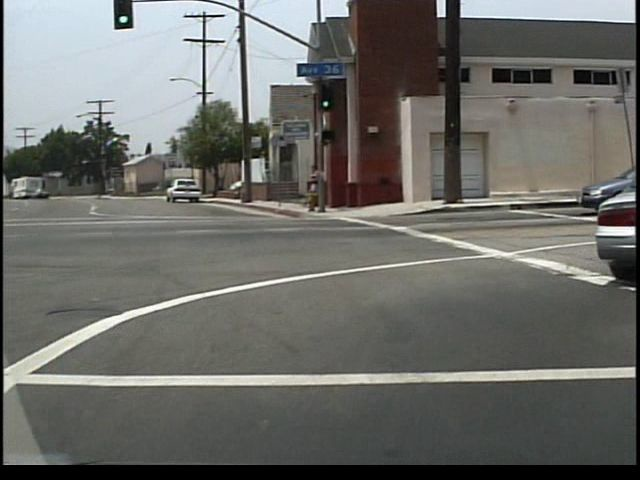person: (312, 163, 330, 213)
